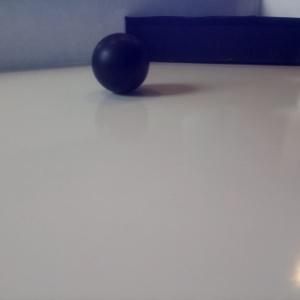zone: (124, 15, 300, 65)
